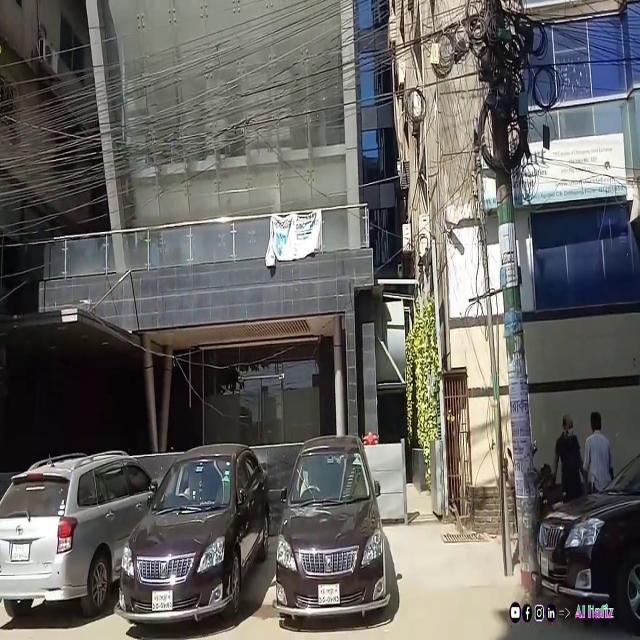silver: (0, 468, 120, 606)
